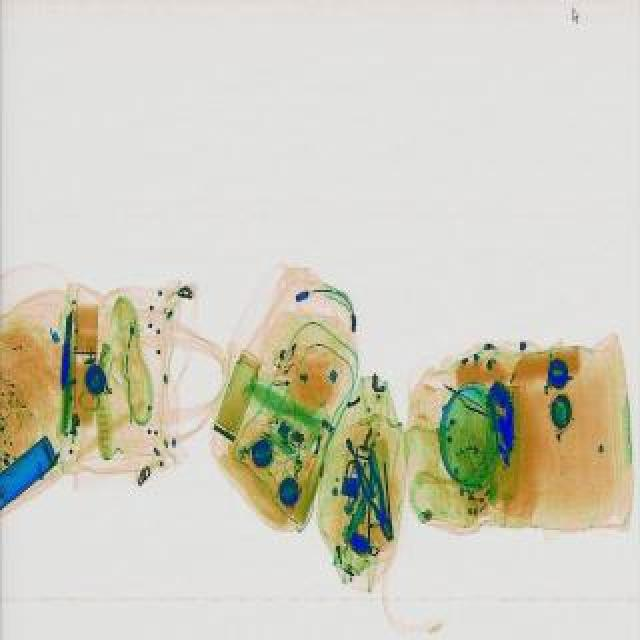wrench: (348, 450, 400, 542)
